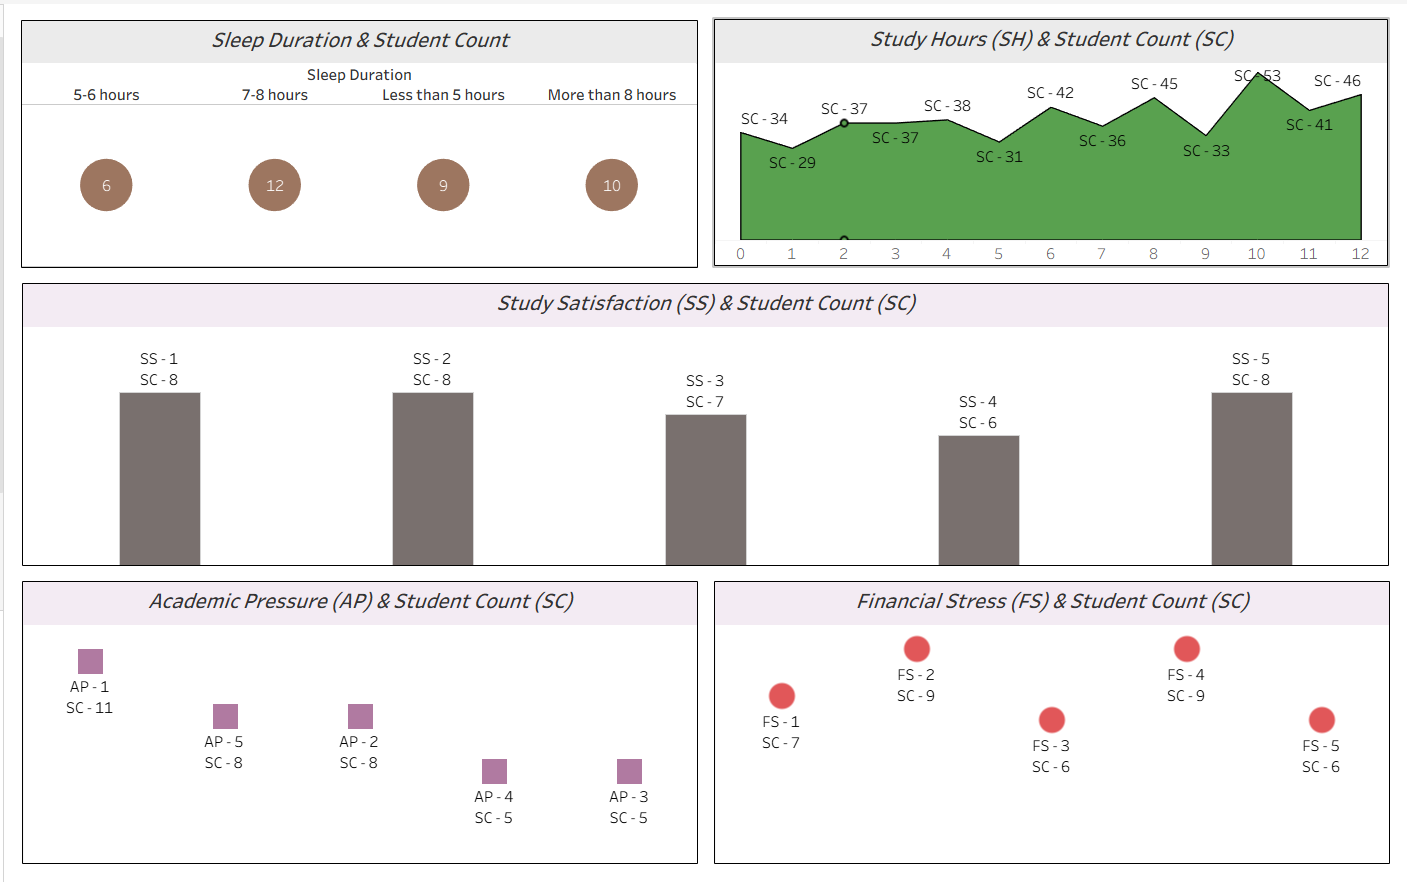

The dashboard page shown, as its layout file describes it:
{"tool":"tableau","page":{"name":"Student Count Analysis","canvas":[1000,1000],"units":"permille","ordinal":0},"visuals":[{"type":"worksheet","title":"SH & SC","mark":"Area","rows":["Index_Column"],"cols":["Study_Hours"],"box":[428.5,16.5,406.8,271.1]},{"type":"worksheet","title":"SD & SC","mark":"Pie","cols":["Sleep_Duration"],"box":[10.3,17.6,408.6,272.2]},{"type":"worksheet","title":"SS & SC","mark":"Bar","rows":["Index_Column"],"cols":["Study_Satisfaction"],"box":[10.9,306.3,825,310.7]},{"type":"worksheet","title":"AP & SC","mark":"Square","rows":["Index_Column"],"cols":["Academic_Pressure"],"box":[10.9,633.4,408,310.7]},{"type":"worksheet","title":"FS & SC","mark":"Circle","rows":["Index_Column"],"cols":["Financial_Stress"],"box":[428.5,633.4,408,310.7]}]}

Visuals, with their boxes on the dashboard's canvas, which has no fixed pixel size, in thousandths of its width and height (x1, y1, x2, y2). These are canvas units, not pixel positions in the 1407x882 screenshot, which may show the page scaled, cropped or inside an application window:
"SH & SC" worksheet (Area marks): [left=428, top=16, right=835, bottom=288]
"SD & SC" worksheet (Pie marks): [left=10, top=18, right=419, bottom=290]
"SS & SC" worksheet (Bar marks): [left=11, top=306, right=836, bottom=617]
"AP & SC" worksheet (Square marks): [left=11, top=633, right=419, bottom=944]
"FS & SC" worksheet (Circle marks): [left=428, top=633, right=836, bottom=944]
